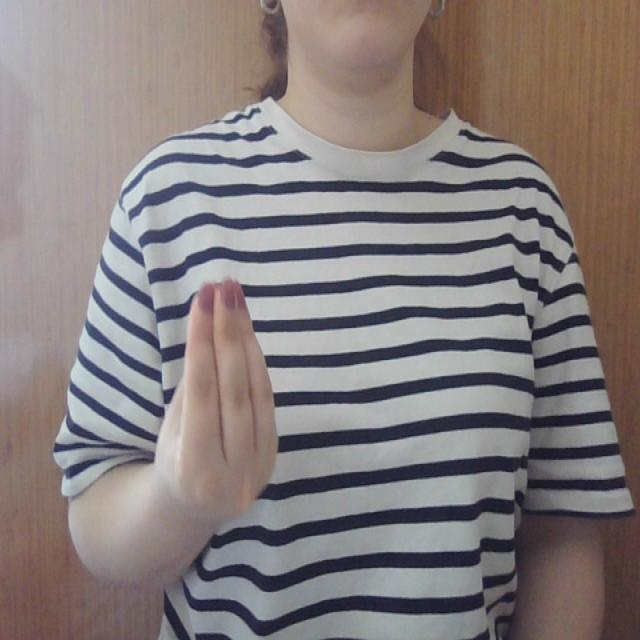iyi: (158, 278, 282, 522)
